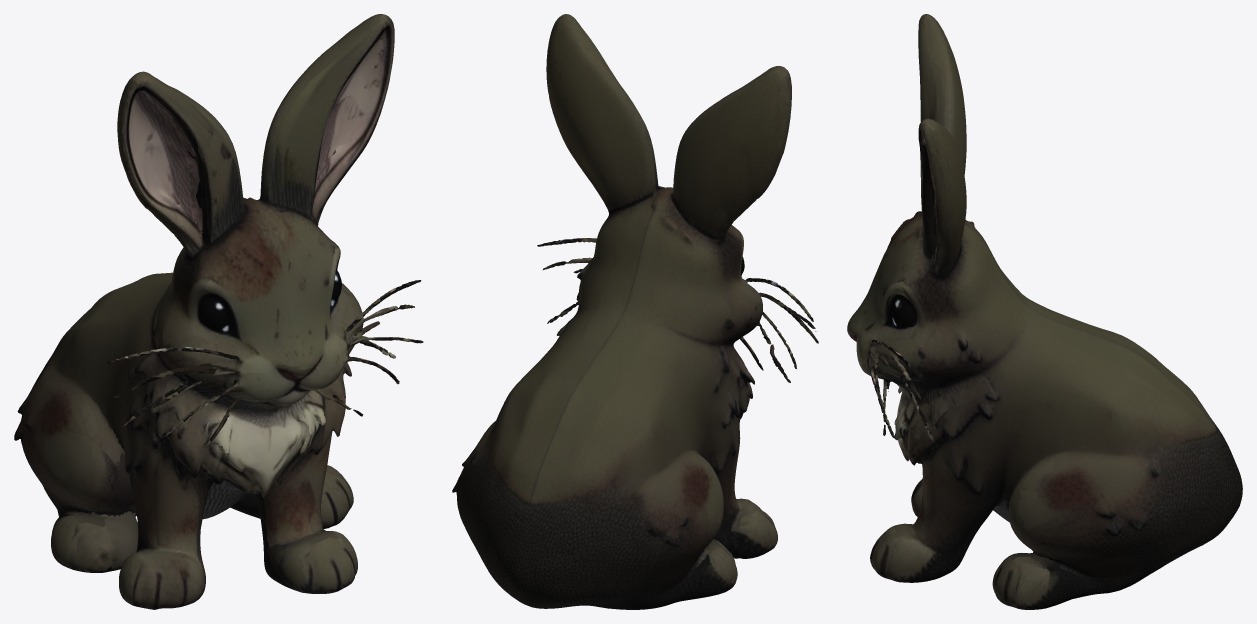
File: zombie-bunny.glb
3 views of the same model, side by side, from view 1: azimuth 30°, elevation 25°; view 2: azimuth 150°, elevation 25°; view 3: azimuth 270°, elevation 25° (orthographic). The views are drawn at different scales.
Visible parts, largest first — view 1: tmpna34ut2f.ply; view 2: tmpna34ut2f.ply; view 3: tmpna34ut2f.ply.
Part boxes in pixels (x1,y1,x2,y2): tmpna34ut2f.ply: [14, 14, 423, 609]; tmpna34ut2f.ply: [452, 14, 818, 609]; tmpna34ut2f.ply: [847, 14, 1242, 609].
Bounding box in the file's own units: 1.18 × 1.96 × 1.44.
1 material, 1 textured.
